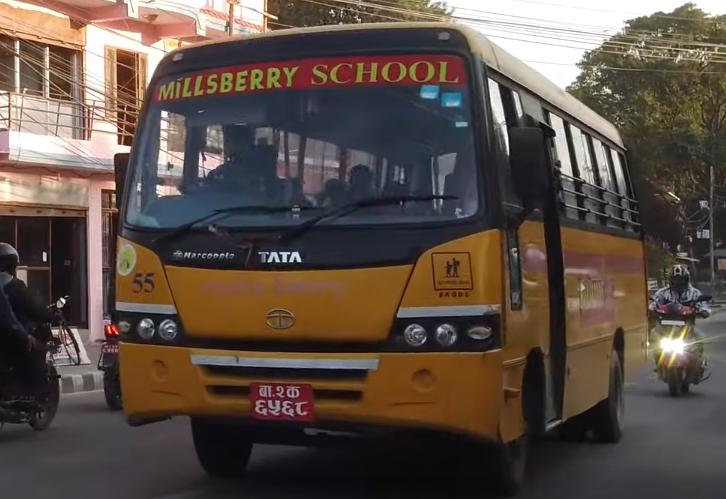bike: (3, 287, 74, 438)
school_bus: (111, 19, 649, 497)
scooter: (648, 286, 711, 400)
